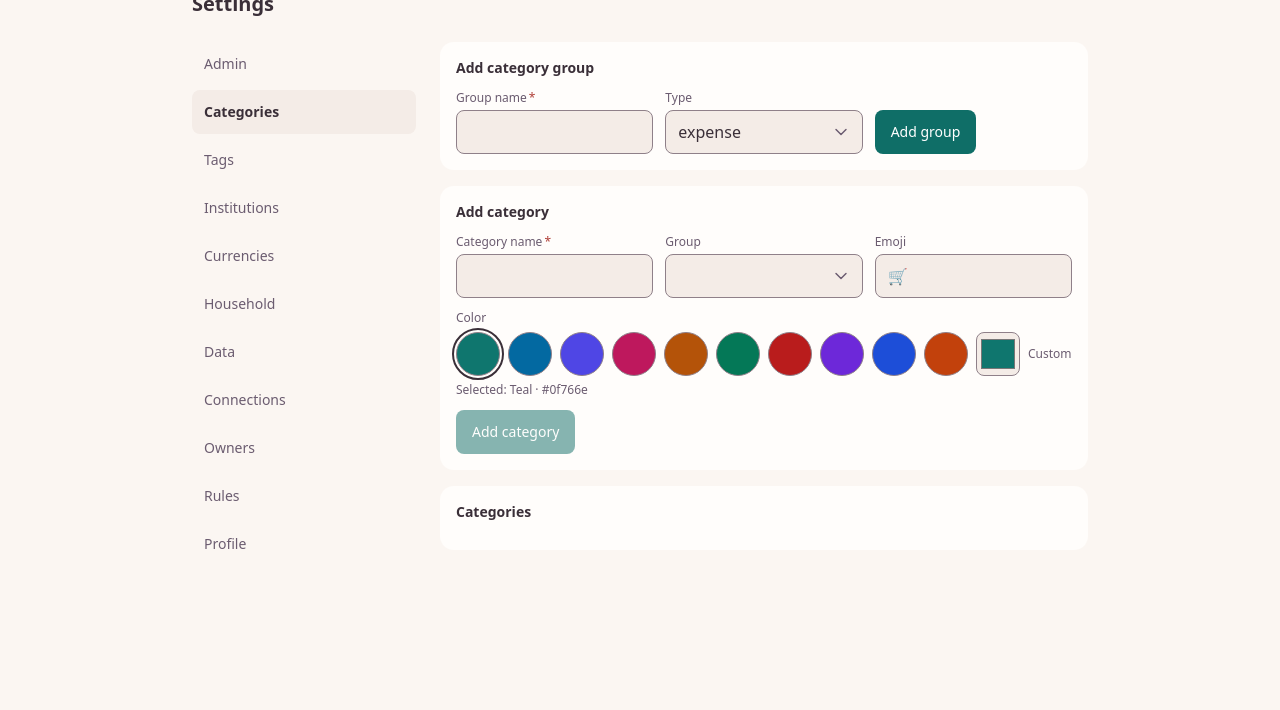
Test: Settings → Data → what the import did › lists what was created, what was left alone, and what it could not place
Click the tab with test id "settings-tab-data": (304, 352) [192,330,416,374]
(page scrolled)
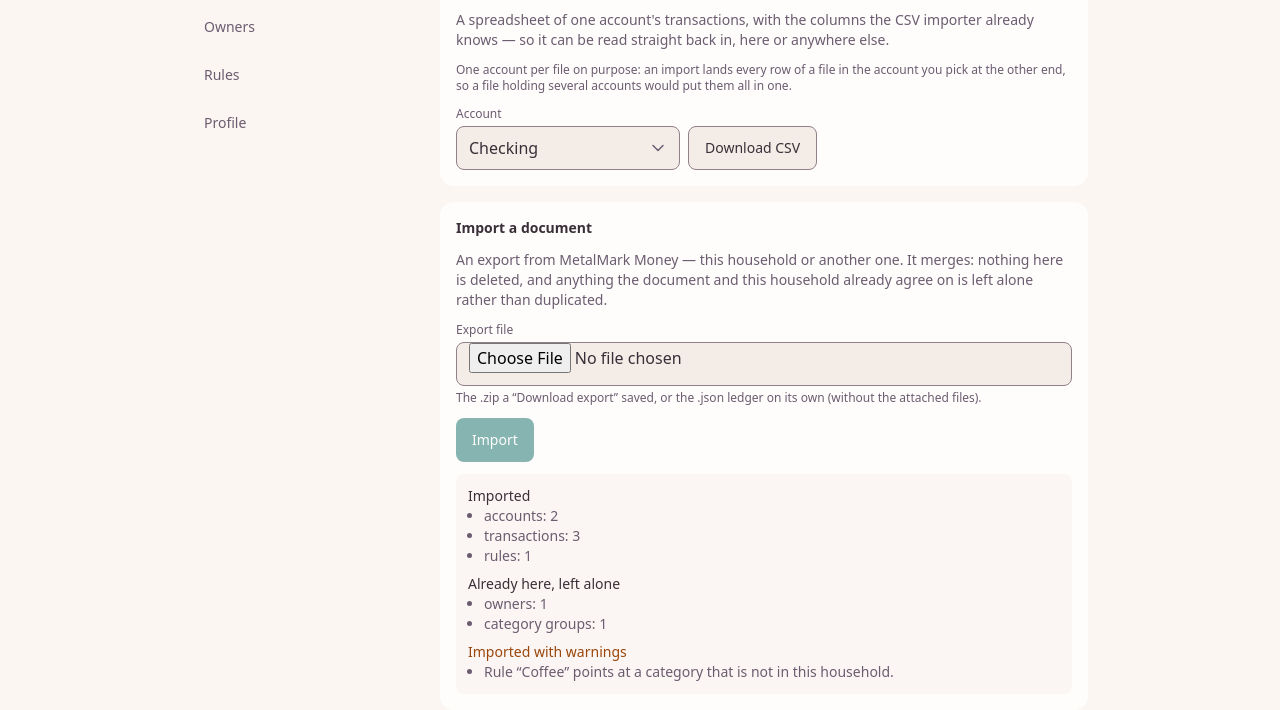
expect the list with test id "import-created" shows "accounts: 2": met, box [484,506,580,565]
expect the list with test id "import-created" shows "transactions: 3": met, box [484,506,580,565]
expect the list with test id "import-matched" shows "category groups: 1": met, box [484,594,607,633]
